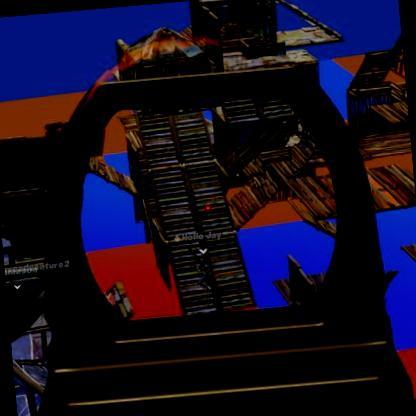person: (200, 259, 214, 289)
